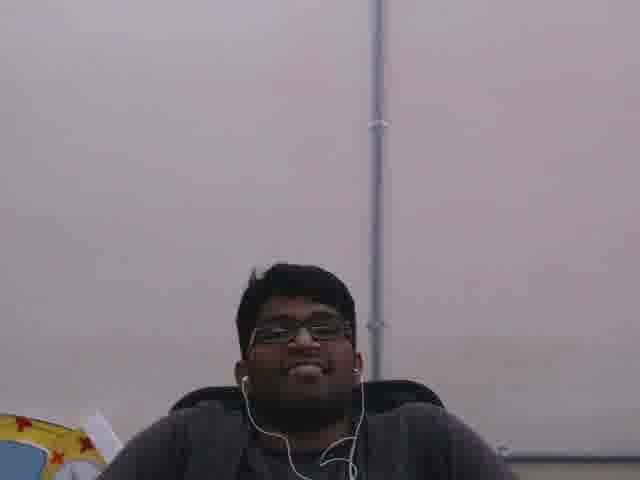bosan: (248, 290, 350, 405)
